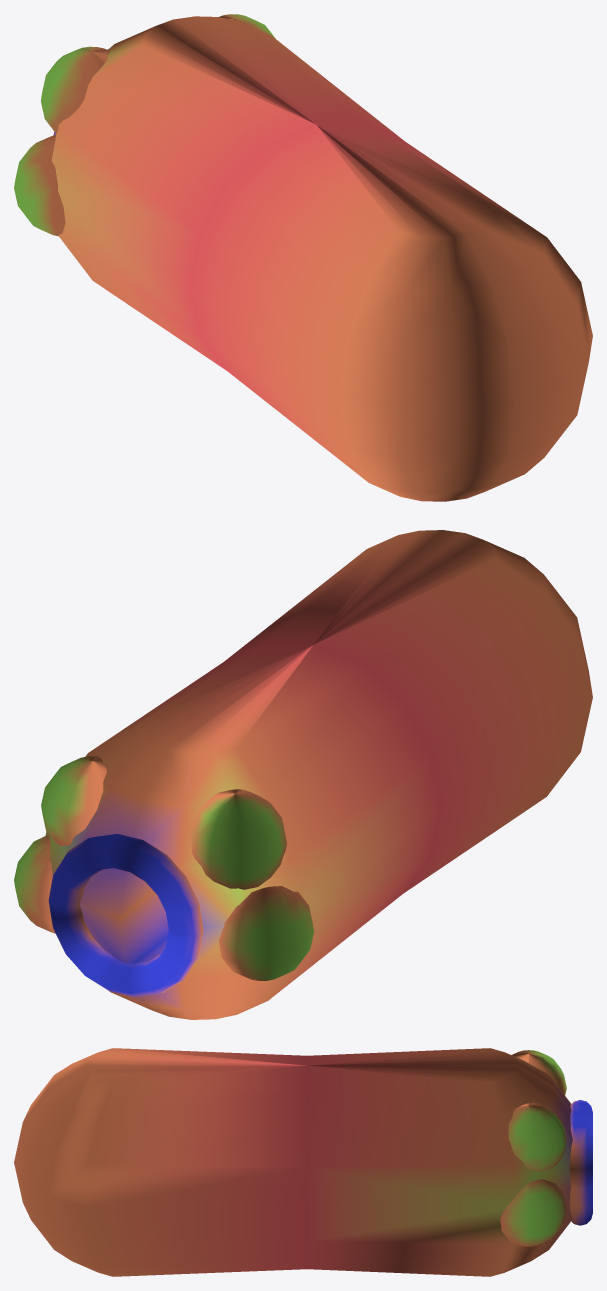
File: poolsucker.glb
3 views of the same model, one above another, from view 1: azimuth 30°, elevation 25°; view 2: azimuth 150°, elevation 25°; view 3: azimuth 270°, elevation 25° (orthographic). The views are drawn at different scales.
Parts seen in each view (by area): view 1: Poolsucker; view 2: Poolsucker; view 3: Poolsucker.
Boxes of the visible parts, x1,y1,x2,y2 form: Poolsucker: [14, 14, 592, 501]; Poolsucker: [14, 530, 592, 1019]; Poolsucker: [14, 1048, 592, 1276].
Size of the model in its own units: 0.4197 by 0.3721 by 1.01.
